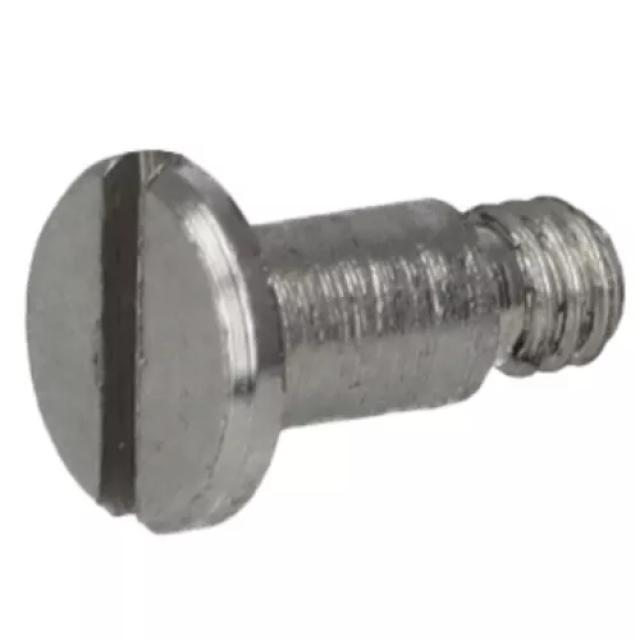duz: (23, 147, 286, 537)
